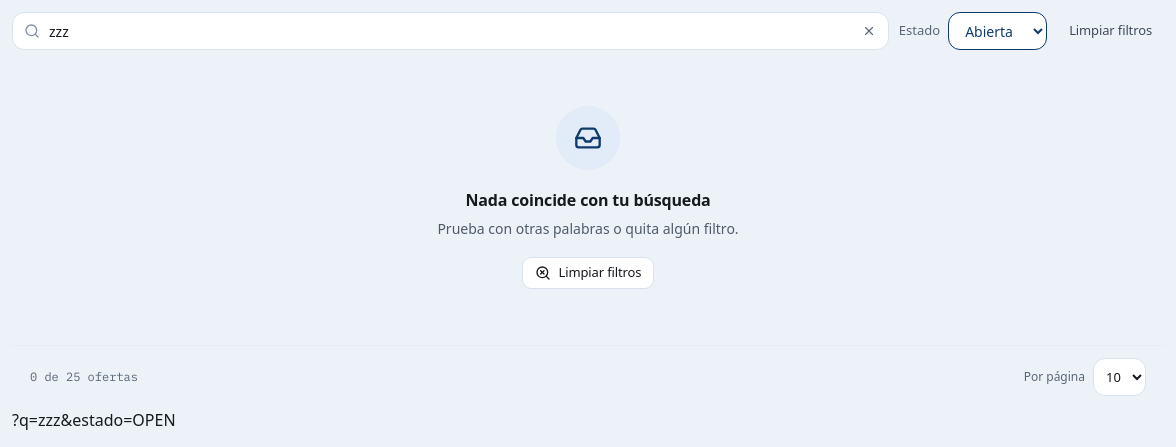
Test: ListToolbar + Pagination + useListing › offers to clear when nothing matches
Expected: the text "Nada coincide con tu búsqueda" is shown, [465, 188, 711, 212]
Expected: the text "0 de 25 ofertas" is shown, [30, 368, 138, 386]
Click the 1st button "Limpiar filtros" at (1111, 31), box [1057, 15, 1164, 47]
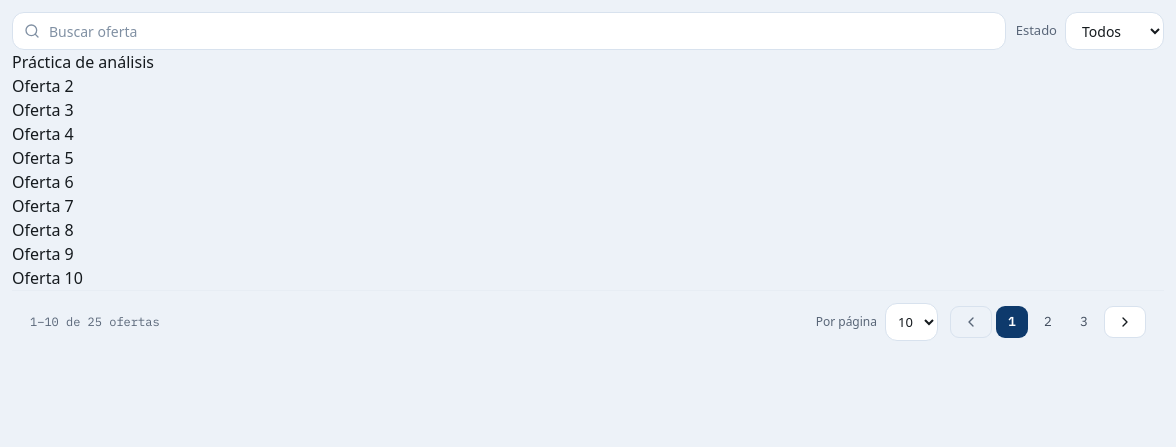
Result: the number of list items is 10
